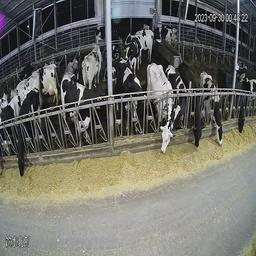cow: (60, 74, 108, 149), (146, 61, 175, 154), (17, 86, 41, 180), (115, 62, 145, 137), (216, 64, 247, 134), (178, 63, 203, 148), (0, 90, 23, 171), (200, 72, 223, 149), (165, 61, 187, 137), (14, 69, 43, 117), (31, 60, 59, 108), (124, 28, 155, 65), (79, 43, 103, 90), (124, 36, 142, 78), (94, 23, 121, 48), (103, 51, 122, 85), (159, 22, 181, 51), (61, 54, 79, 86)
